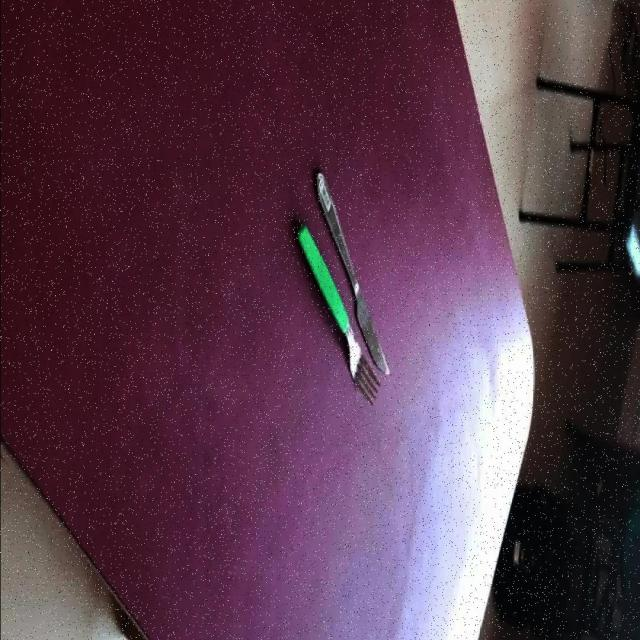Fork: (295, 224, 382, 408)
Knife: (315, 173, 391, 378)
